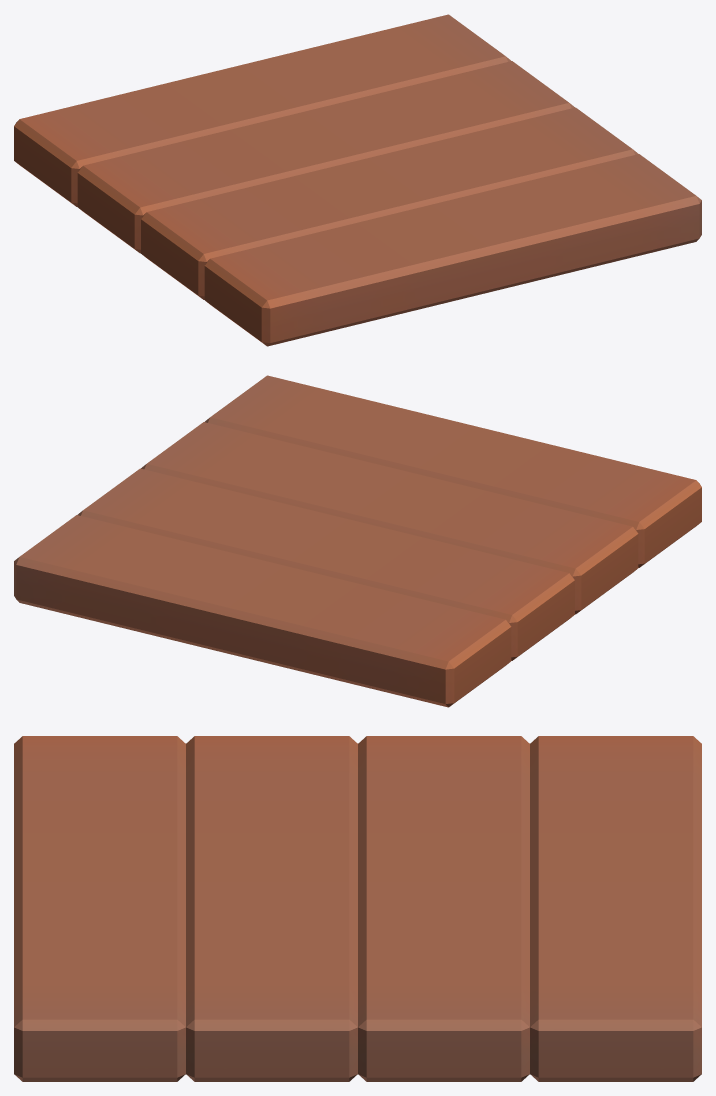
File: plank.glb
3 renders of one model, top to bottom at view 1: azimuth 30°, elevation 25°; view 2: azimuth 150°, elevation 25°; view 3: azimuth 270°, elevation 25°, orthographic. The views are drawn at different scales.
Visible parts, largest first — view 1: crate_lid; view 2: crate_lid; view 3: crate_lid.
Part boxes in pixels (x1,y1,x2,y2): crate_lid: [14, 14, 701, 346]; crate_lid: [14, 375, 701, 707]; crate_lid: [14, 736, 701, 1081].
Bounding box in the file's own units: 2 × 0.2 × 2.
1 material, 1 textured.
